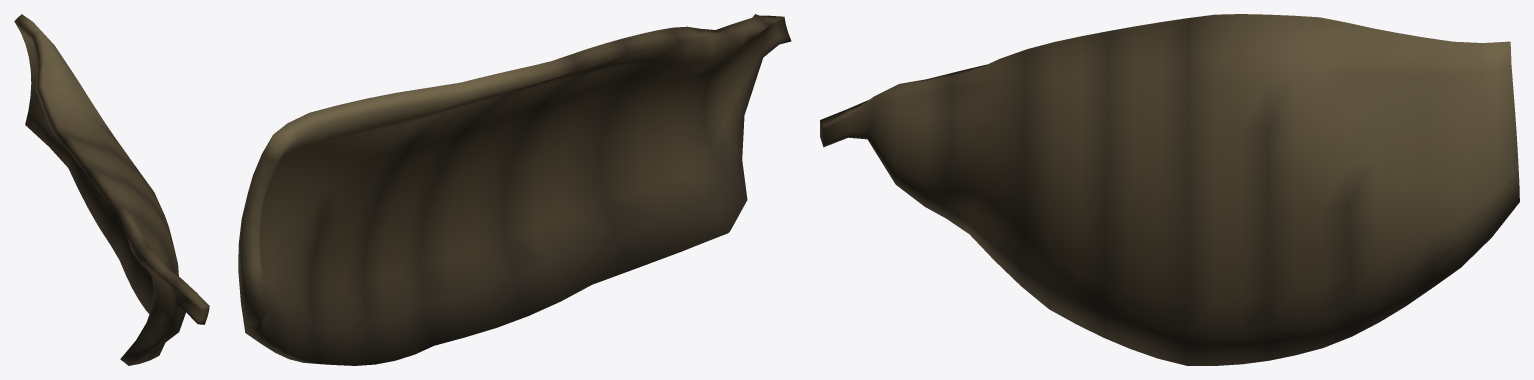
Rendered from Robin_WingFolded.fbx.
3 views of the same model, side by side, from view 1: azimuth 30°, elevation 25°; view 2: azimuth 150°, elevation 25°; view 3: azimuth 270°, elevation 25° (orthographic). The views are drawn at different scales.
Parts seen in each view (by area): view 1: Robin_WingFolded; view 2: Robin_WingFolded; view 3: Robin_WingFolded.
Boxes of the visible parts, x1=… form: Robin_WingFolded: x1=14, y1=14, x2=209, y2=365; Robin_WingFolded: x1=238, y1=14, x2=791, y2=365; Robin_WingFolded: x1=820, y1=14, x2=1519, y2=365.
Bounding box in the file's own units: 0.8503 × 1.3 × 2.67.
